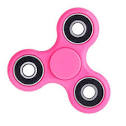fidget_spinner: (2, 3, 124, 116)
